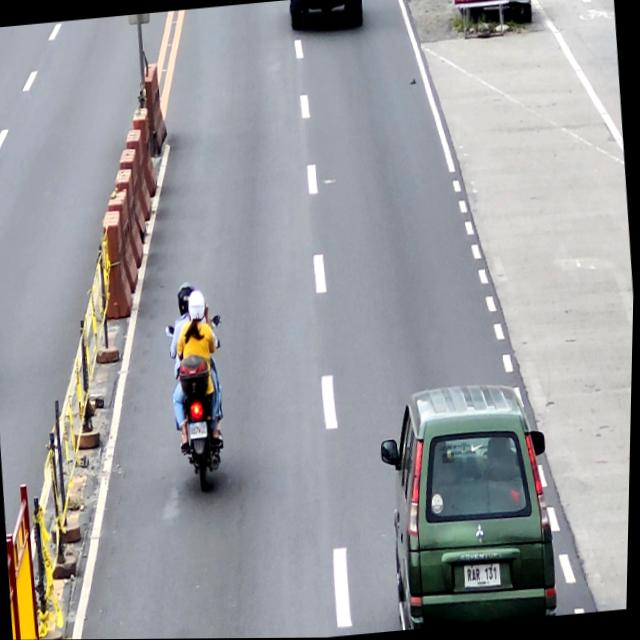Car: (372, 380, 566, 632)
License-Plate: (466, 565, 505, 591), (189, 421, 211, 438)
Motorcycle: (164, 313, 239, 493)
